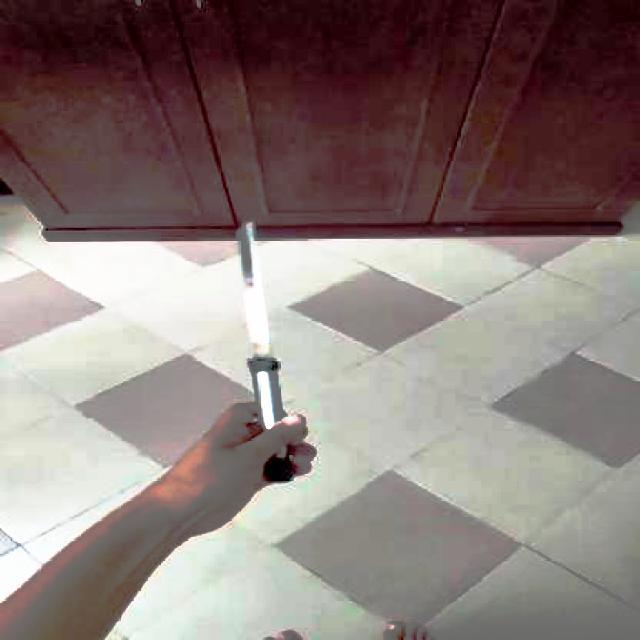Knife: (222, 213, 296, 449)
